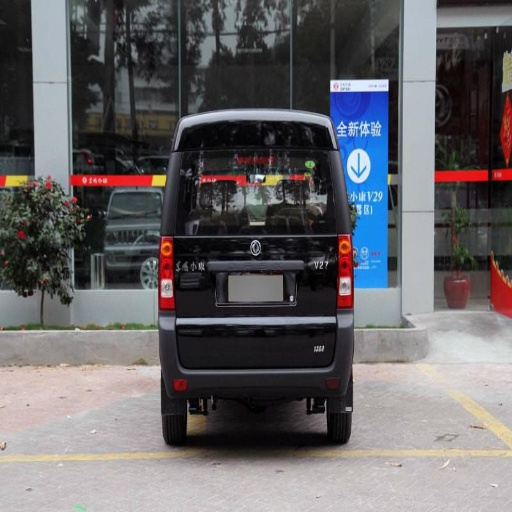back_bumper: (161, 313, 352, 401)
trunk: (178, 235, 336, 364)
